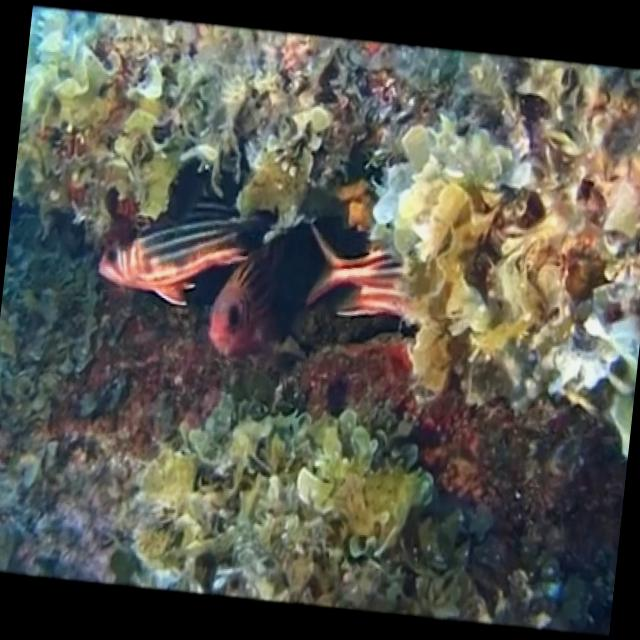Asker Baligi: (0, 1, 640, 631), (86, 185, 260, 311), (208, 212, 337, 376)
